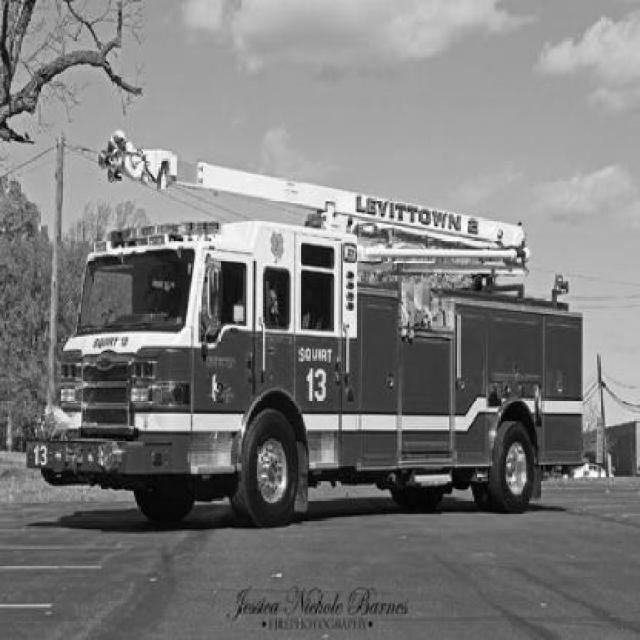Fire Truck: (23, 133, 586, 530)
